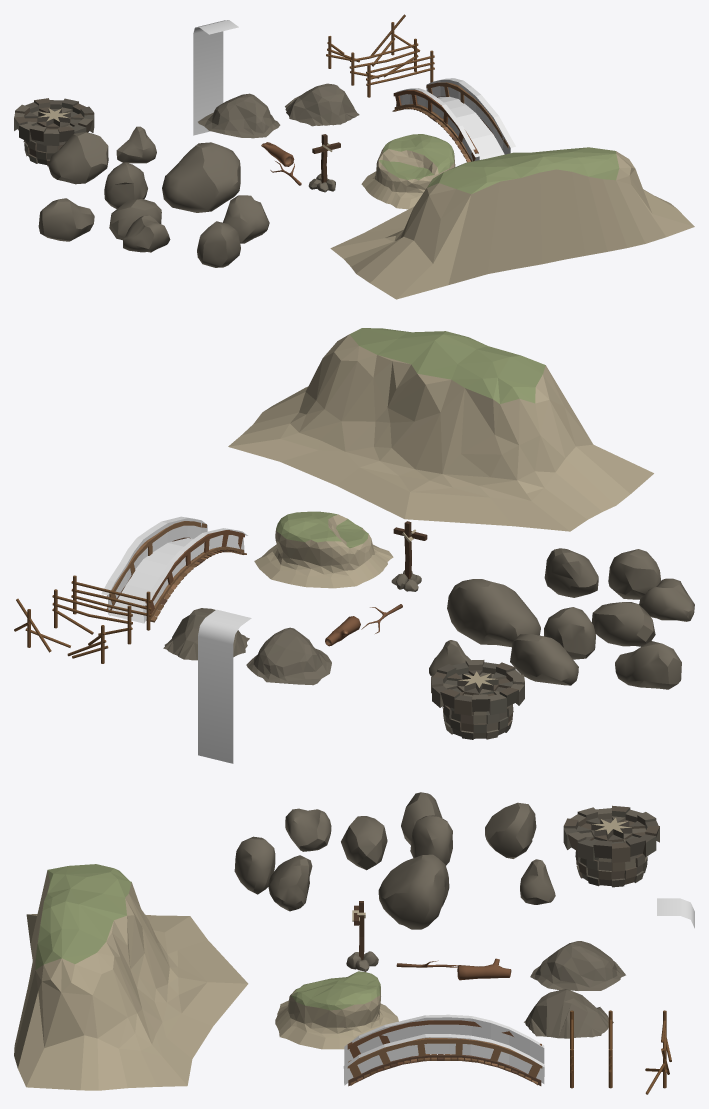
File: Props.fbx
The picture shows the model from 3 angles, top to bottom: view 1: azimuth 30°, elevation 25°; view 2: azimuth 150°, elevation 25°; view 3: azimuth 270°, elevation 25°; orthographic projection. The views are drawn at different scales.
Visible parts, largest first — view 1: Plane, Monticulo 1, rock.007, Plane.001, Altar, Cascada, Roca 1, rock.005, Roca 0, Puente, rock.006, rock.001 (+9 smaller); view 2: Plane, Monticulo 1, Altar, Cascada, Plane.001, rock.007, Roca 1, Puente, rock.005, rock.006, rock.009, rock.002 (+9 smaller); view 3: Plane, Monticulo 1, Altar, Plane.001, rock.007, Puente, Roca 1, Roca 0, rock.005, rock.009, rock.001, rock.002 (+8 smaller).
Boxes of the visible parts, left/top/right/bottom form: Plane: left=330, top=147, right=694, bottom=299; Monticulo 1: left=361, top=134, right=455, bottom=209; rock.007: left=162, top=142, right=240, bottom=212; Plane.001: left=395, top=78, right=515, bottom=160; Altar: left=14, top=98, right=94, bottom=166; Cascada: left=193, top=20, right=238, bottom=135; Roca 1: left=198, top=93, right=280, bottom=138; rock.005: left=48, top=132, right=108, bottom=184; Roca 0: left=285, top=83, right=359, bottom=126; Puente: left=392, top=82, right=508, bottom=162; rock.006: left=38, top=198, right=94, bottom=241; rock.001: left=197, top=221, right=240, bottom=267; Plane: left=228, top=328, right=653, bottom=531; Monticulo 1: left=254, top=511, right=393, bottom=588; Altar: left=431, top=660, right=524, bottom=739; Cascada: left=198, top=609, right=251, bottom=763; Plane.001: left=101, top=516, right=247, bottom=623; rock.007: left=447, top=579, right=540, bottom=647; Roca 1: left=246, top=627, right=331, bottom=685; Puente: left=106, top=521, right=246, bottom=622; rock.005: left=510, top=634, right=578, bottom=685; rock.006: left=615, top=641, right=681, bottom=689; rock.009: left=592, top=602, right=655, bottom=646; rock.002: left=544, top=548, right=598, bottom=597; Plane: left=14, top=864, right=248, bottom=1090; Monticulo 1: left=275, top=971, right=398, bottom=1049; Altar: left=563, top=805, right=659, bottom=887; Plane.001: left=343, top=1014, right=544, bottom=1085; rock.007: left=378, top=854, right=449, bottom=929; Puente: left=347, top=1020, right=542, bottom=1086; Roca 1: left=530, top=941, right=625, bottom=990; Roca 0: left=524, top=989, right=613, bottom=1038; rock.005: left=485, top=802, right=536, bottom=858; rock.009: left=341, top=816, right=387, bottom=870; rock.001: left=234, top=836, right=275, bottom=894; rock.002: left=268, top=855, right=312, bottom=911.
Size of the model in its own units: 1405 by 413 by 1414.
